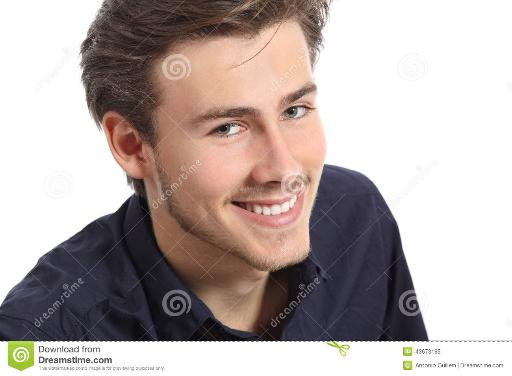left_eye: (284, 104, 315, 122)
left_lip_corner: (297, 186, 312, 203)
right_eye: (204, 121, 251, 140)
right_lip_corner: (222, 198, 245, 211)
